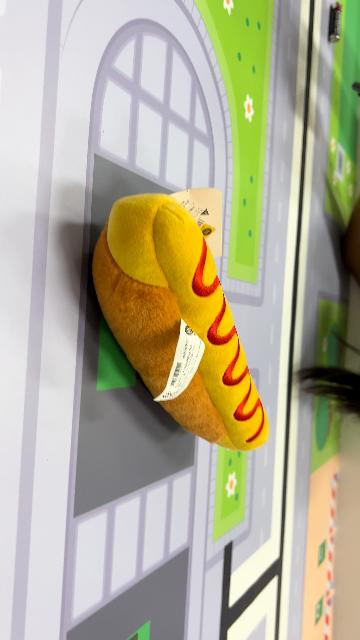hotdog: (92, 192, 272, 454)
